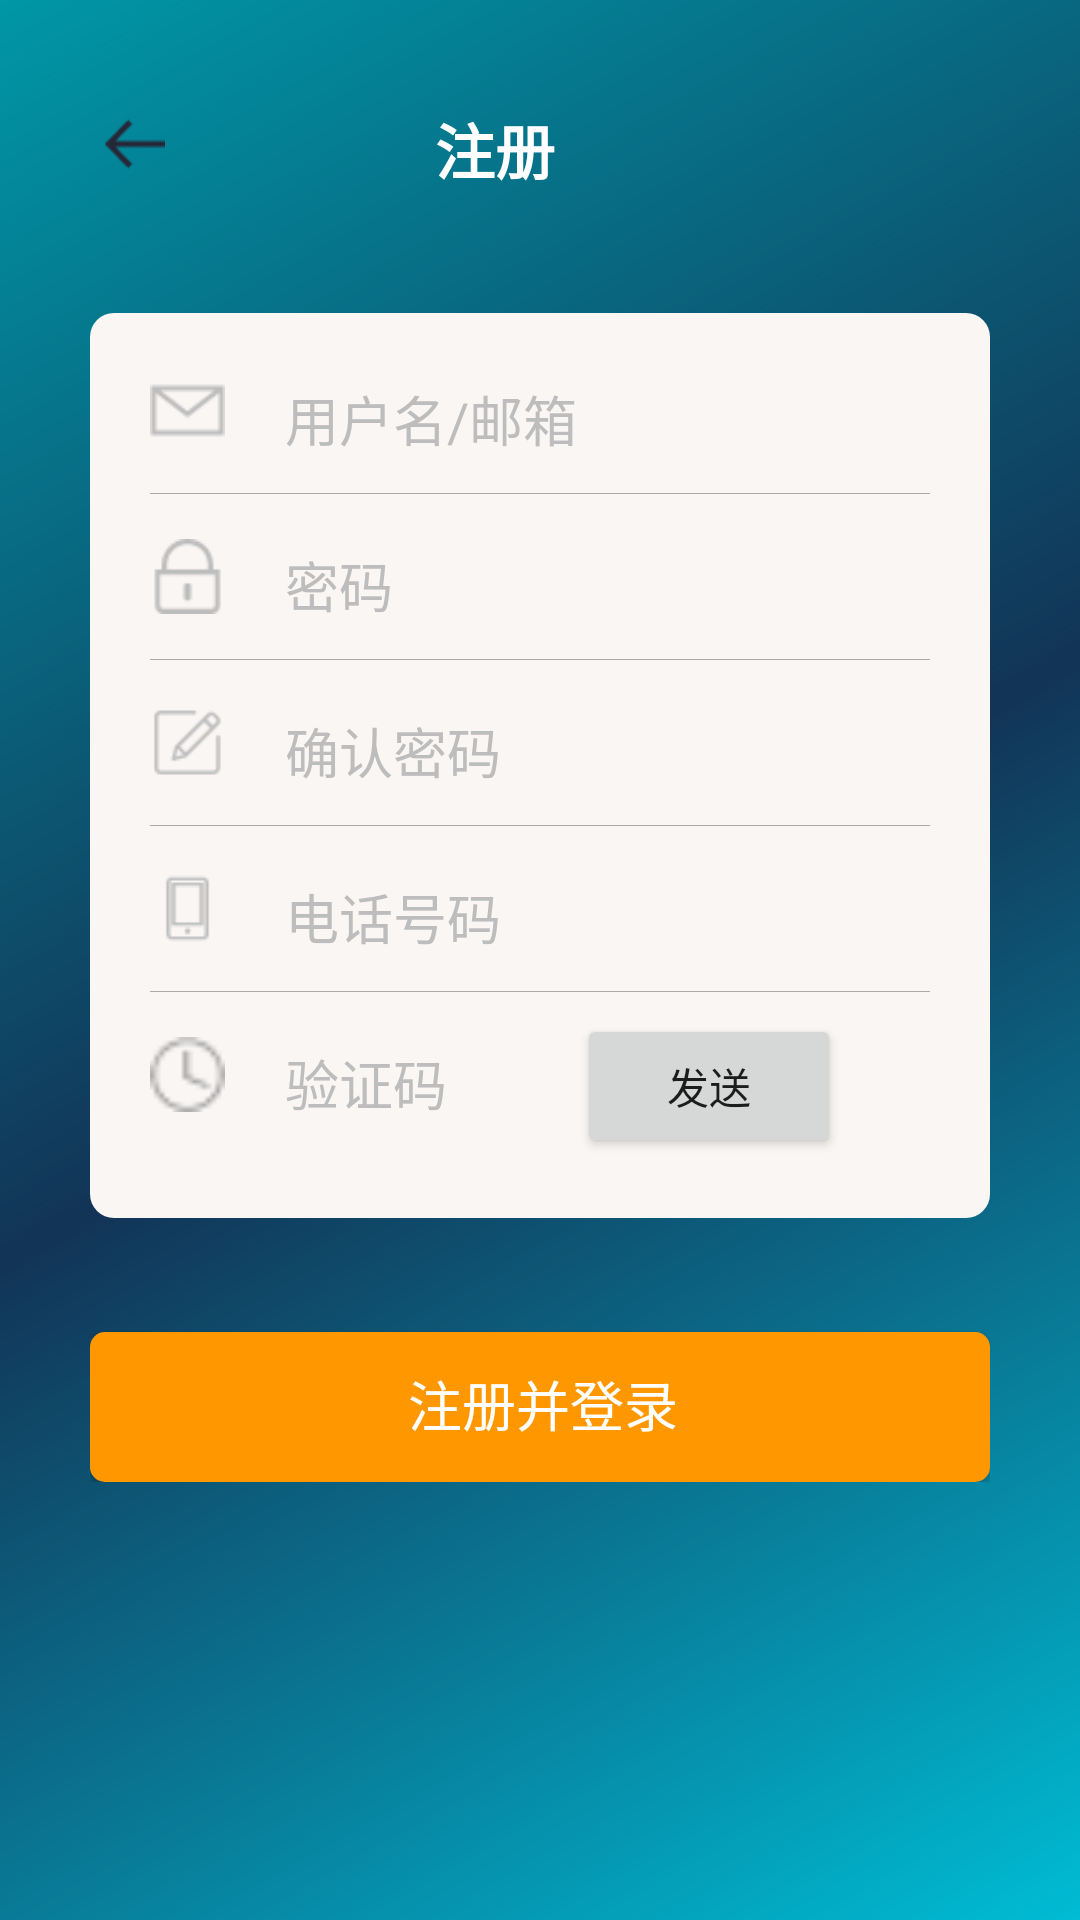

Locate icon controls on the screen. Image size 1080x1920, boxes as (x1, y1, x2, y2).
clock: (150, 1037, 225, 1112)
email: (150, 385, 225, 436)
left arrow: (105, 120, 165, 168)
password: (155, 539, 220, 614)
phone num: (166, 877, 209, 940)
profile feedback: (154, 710, 221, 775)
